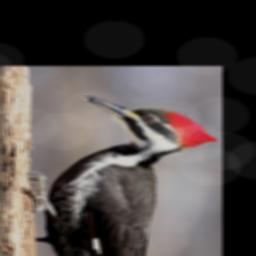Woodpecker: (26, 92, 218, 256)
